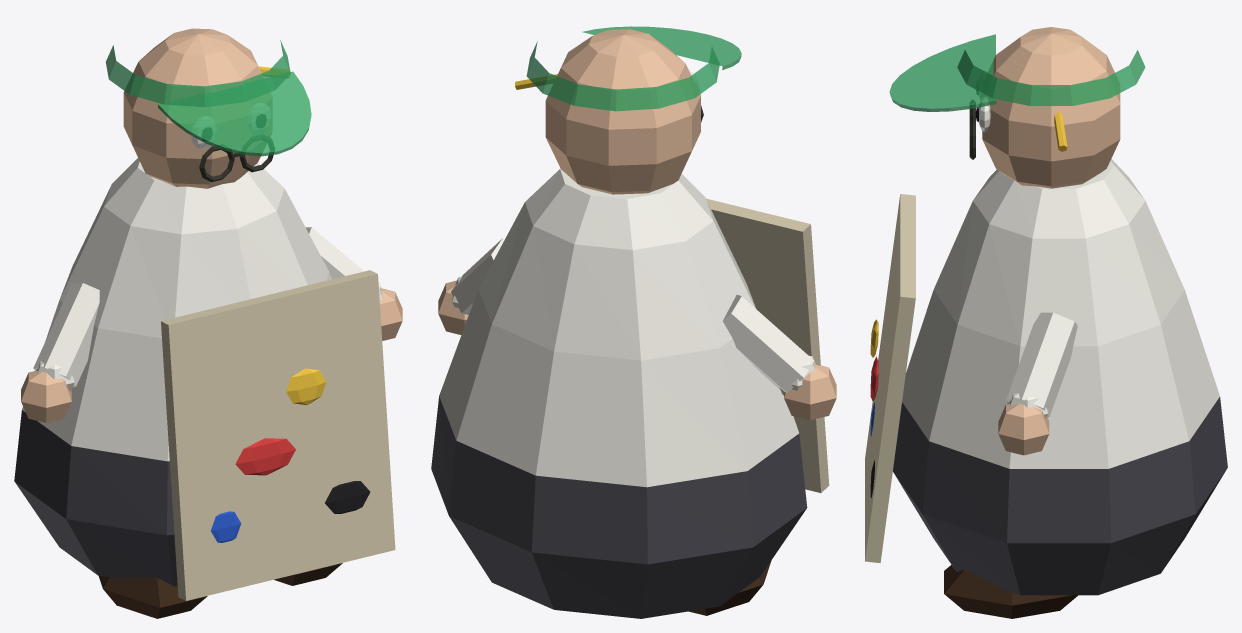
Rendered from npc_don_renglon.glb.
The picture shows the model from 3 angles, left to right: view 1: azimuth 30°, elevation 25°; view 2: azimuth 150°, elevation 25°; view 3: azimuth 270°, elevation 25°; orthographic projection. The views are drawn at different scales.
Visible parts, largest first — view 1: body_renglon_apron, body_renglon_shirt, body_renglon_pants, head_renglon_skin, hat_renglon_visor, arms_renglon_shirt, body, legs_renglon_shoes, arms_renglon_skin, face_renglon_wire, face_white; view 2: body_renglon_shirt, body_renglon_pants, head_renglon_skin, body_renglon_apron, hat_renglon_visor, arms_renglon_shirt, arms_renglon_skin, legs_renglon_shoes; view 3: body_renglon_shirt, body_renglon_pants, head_renglon_skin, body_renglon_apron, hat_renglon_visor, arms_renglon_shirt, legs_renglon_shoes, arms_renglon_skin, body.
Part boxes in pixels (box(x1,y1,x2,y2)): body_renglon_apron: box(161, 270, 395, 600); body_renglon_shirt: box(22, 158, 331, 461); body_renglon_pants: box(14, 410, 177, 586); head_renglon_skin: box(123, 28, 271, 188); hat_renglon_visor: box(105, 40, 311, 156); arms_renglon_shirt: box(33, 227, 382, 391); body: box(211, 368, 370, 542); legs_renglon_shoes: box(98, 563, 342, 618); arms_renglon_skin: box(21, 288, 402, 422); face_renglon_wire: box(199, 134, 274, 182); face_white: box(191, 103, 271, 148); body_renglon_shirt: box(439, 168, 798, 487); body_renglon_pants: box(431, 396, 807, 618); head_renglon_skin: box(545, 29, 700, 194); body_renglon_apron: box(706, 198, 829, 492); hat_renglon_visor: box(526, 26, 741, 111); arms_renglon_shirt: box(451, 238, 815, 395); arms_renglon_skin: box(438, 280, 836, 420); legs_renglon_shoes: box(688, 560, 771, 615); body_renglon_shirt: box(902, 159, 1219, 468); body_renglon_pants: box(893, 397, 1227, 595); head_renglon_skin: box(982, 27, 1120, 188); body_renglon_apron: box(865, 194, 915, 563); hat_renglon_visor: box(889, 34, 1145, 111); arms_renglon_shirt: box(1006, 312, 1077, 417); legs_renglon_shoes: box(944, 565, 1077, 618); arms_renglon_skin: box(998, 403, 1049, 455); body: box(870, 319, 878, 498).
Bounding box in the file's own units: 1.13 × 1.53 × 0.9247.
